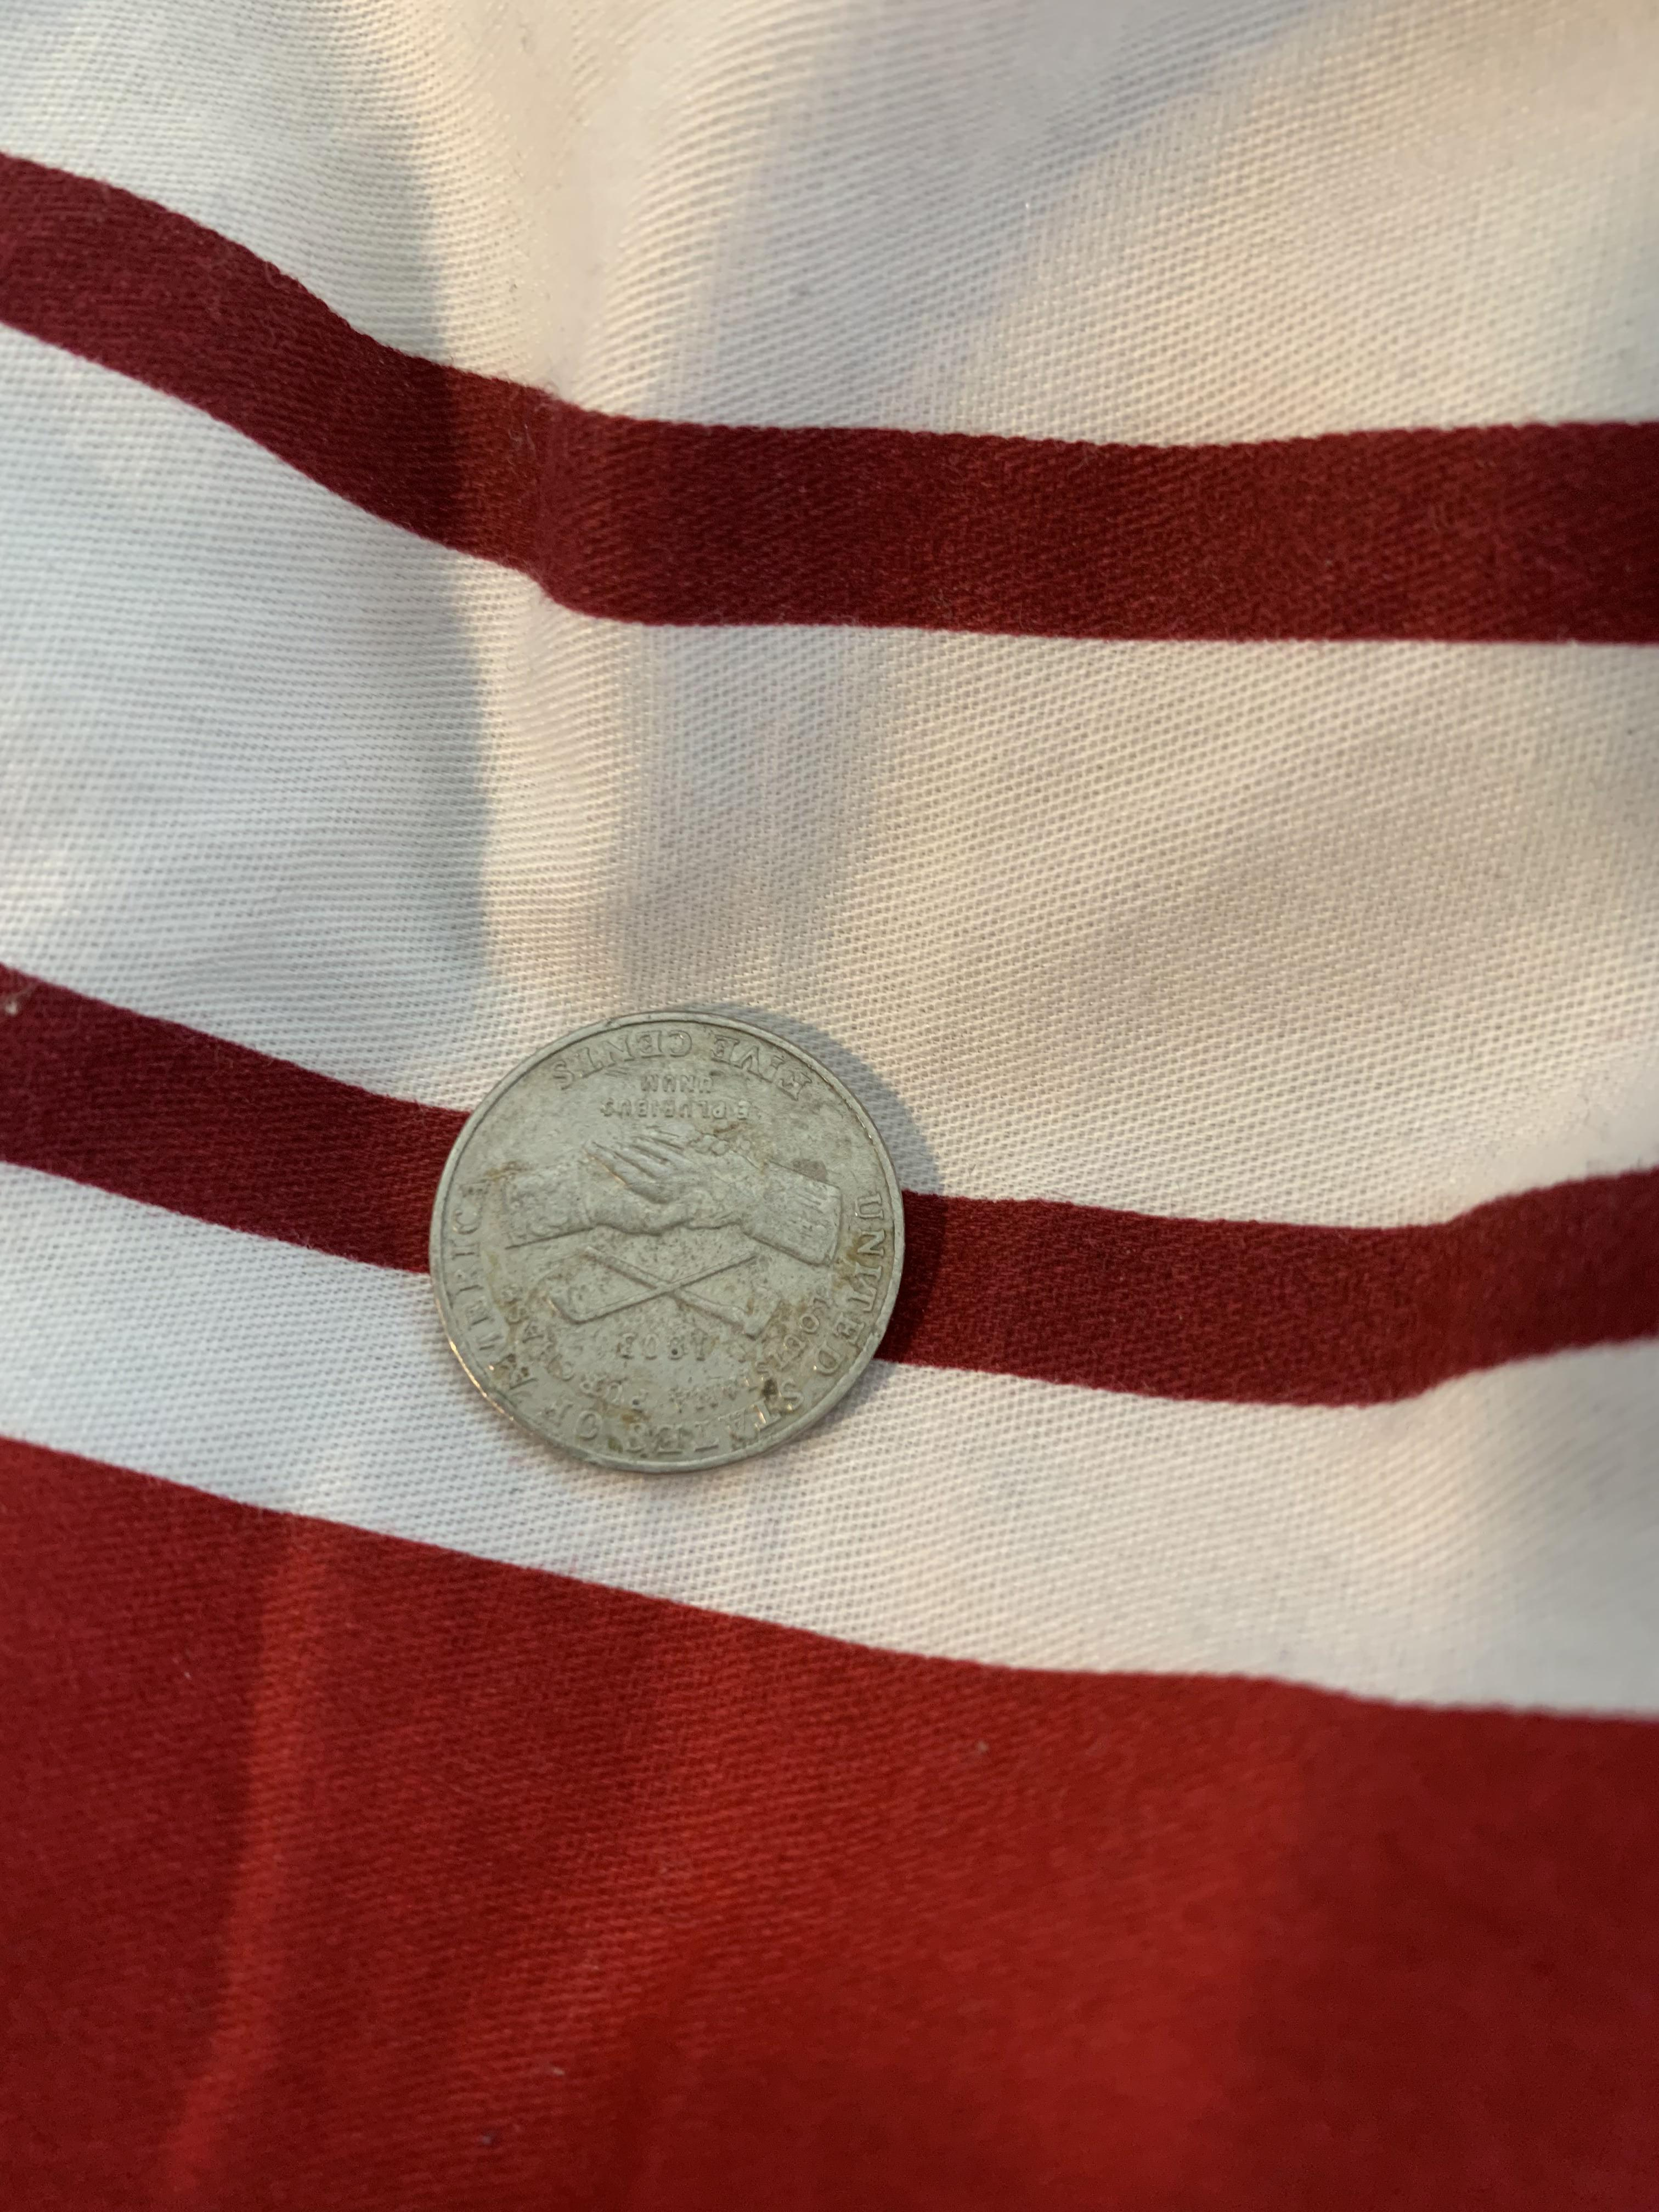Nickel: (418, 1000, 924, 1482)
